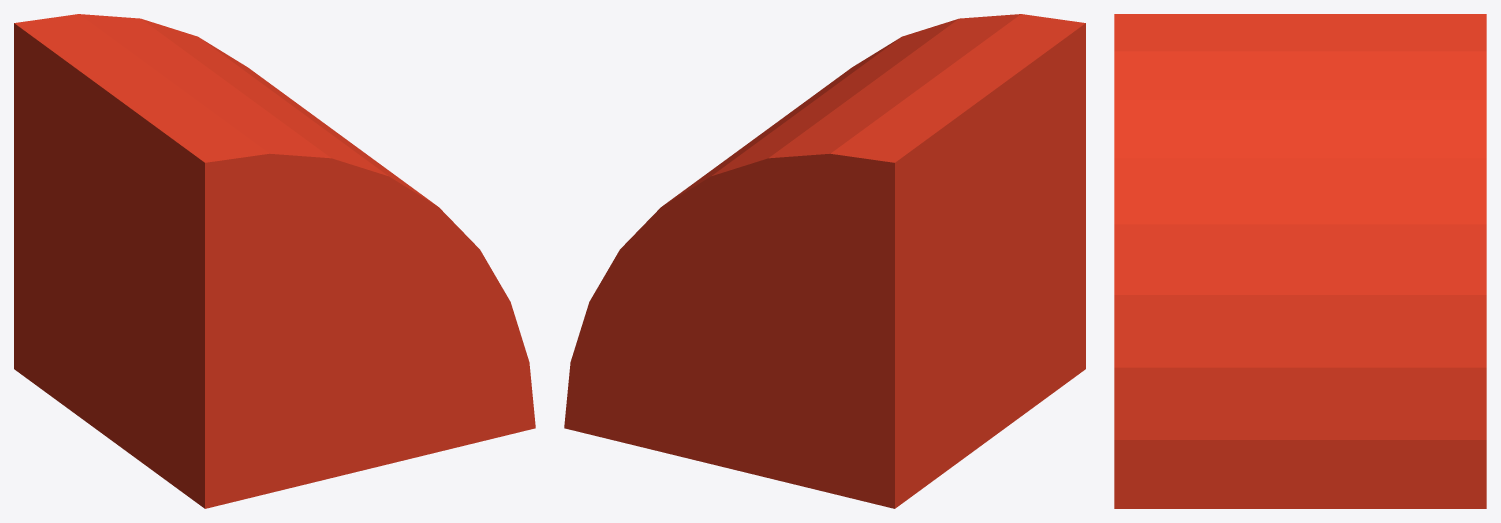
The model's file is r4c3_body_red.gltf.
The picture shows the model from 3 angles, left to right: view 1: azimuth 30°, elevation 25°; view 2: azimuth 150°, elevation 25°; view 3: azimuth 270°, elevation 25°; orthographic projection. The views are drawn at different scales.
Visible parts, largest first — view 1: r4c3_body_red; view 2: r4c3_body_red; view 3: r4c3_body_red.
Boxes of the visible parts, left/top/right/bottom form: r4c3_body_red: left=14, top=14, right=535, bottom=508; r4c3_body_red: left=564, top=14, right=1085, bottom=508; r4c3_body_red: left=1114, top=14, right=1486, bottom=508.
Size of what is drawn, in the model's own units: 2 by 2 by 2.
1 material, 1 textured.
